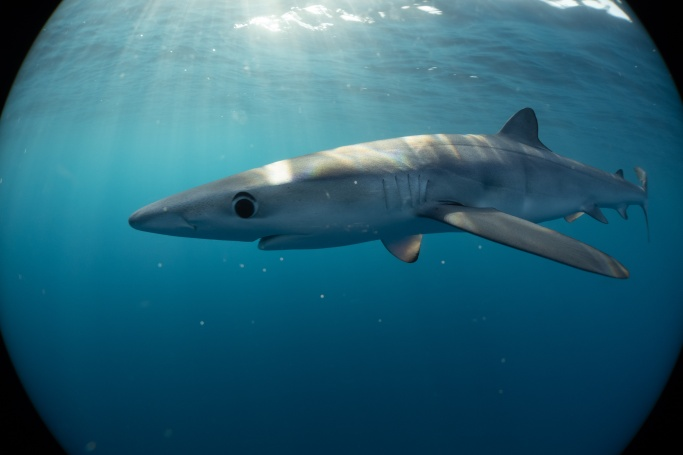Azul: (124, 89, 662, 318)
